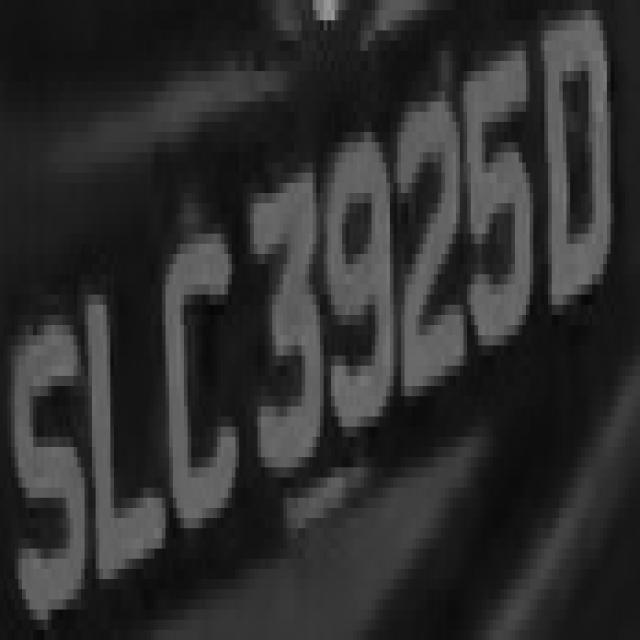2: (382, 81, 471, 416)
3: (239, 142, 324, 498)
5: (460, 20, 540, 386)
9: (312, 112, 393, 457)
C: (165, 203, 242, 559)
D: (541, 21, 618, 336)
L: (77, 264, 169, 579)
S: (11, 284, 92, 620)
